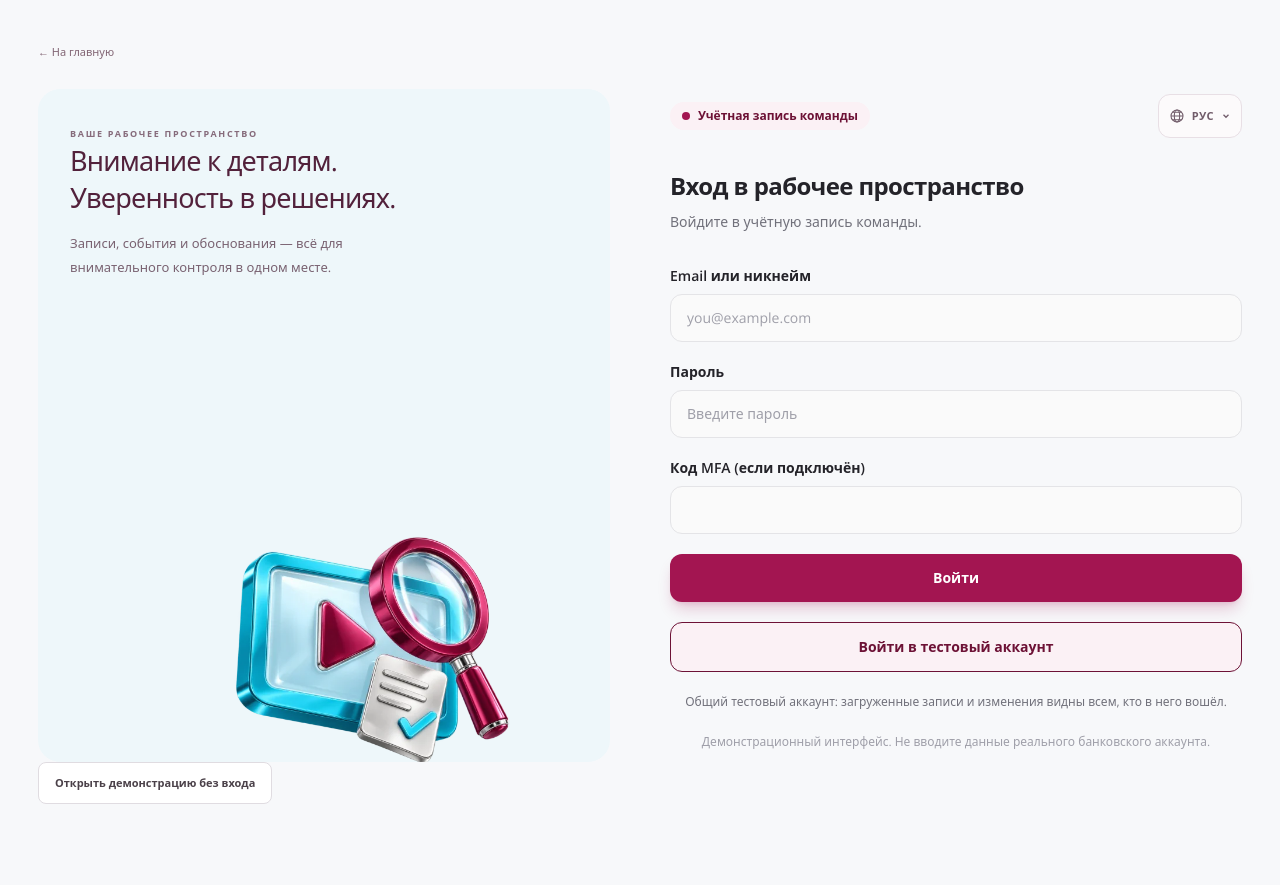
Scenario: quick sign-in from /login authenticates against the API and opens the workspace
Expected: the field labelled "Email или никнейм" is empty, [670,294,1242,342]
Expected: the password field labelled "Пароль" is empty, [670,390,1242,438]
Click the button "Войти в тестовый аккаунт": (956, 647) [670,622,1242,672]
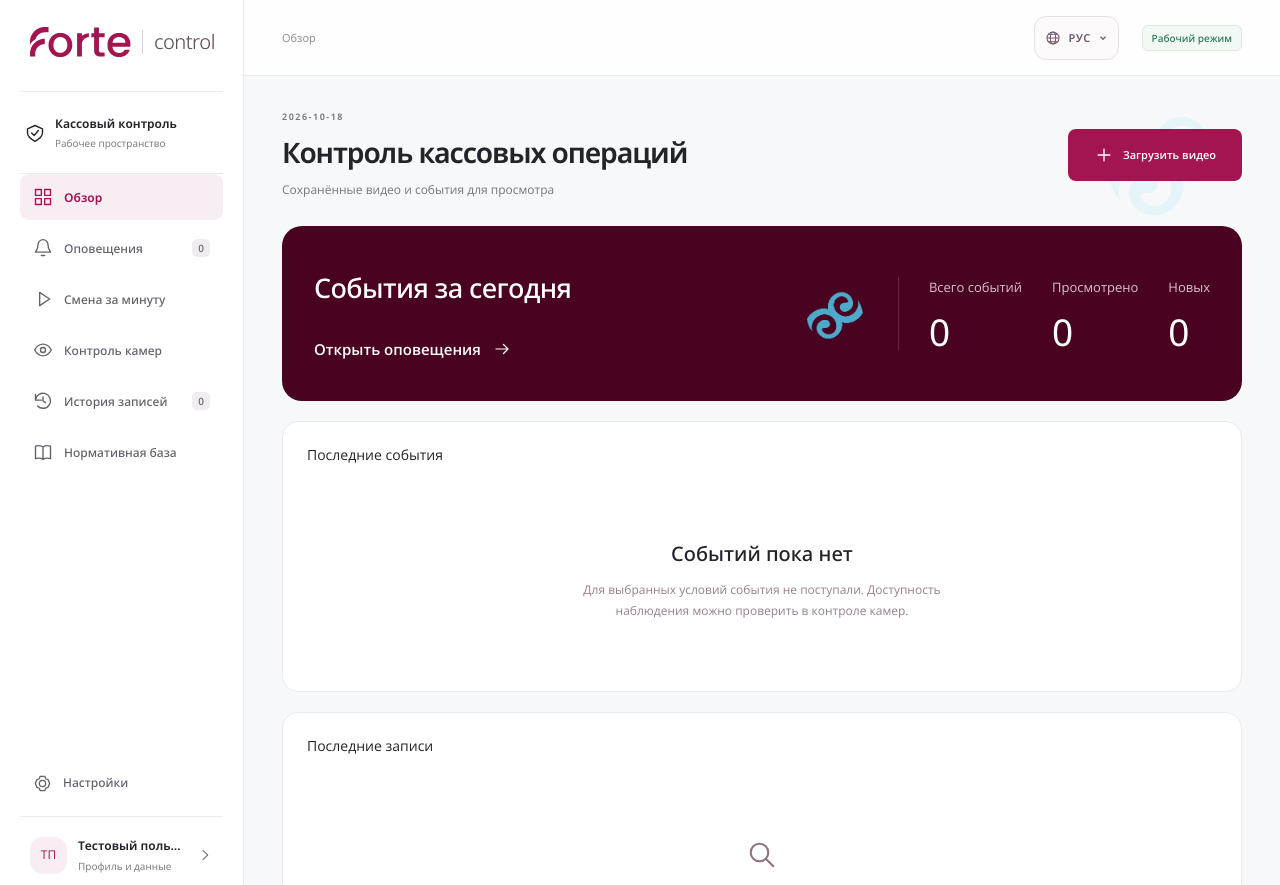
Result: the button "Войти в тестовый аккаунт" is gone
